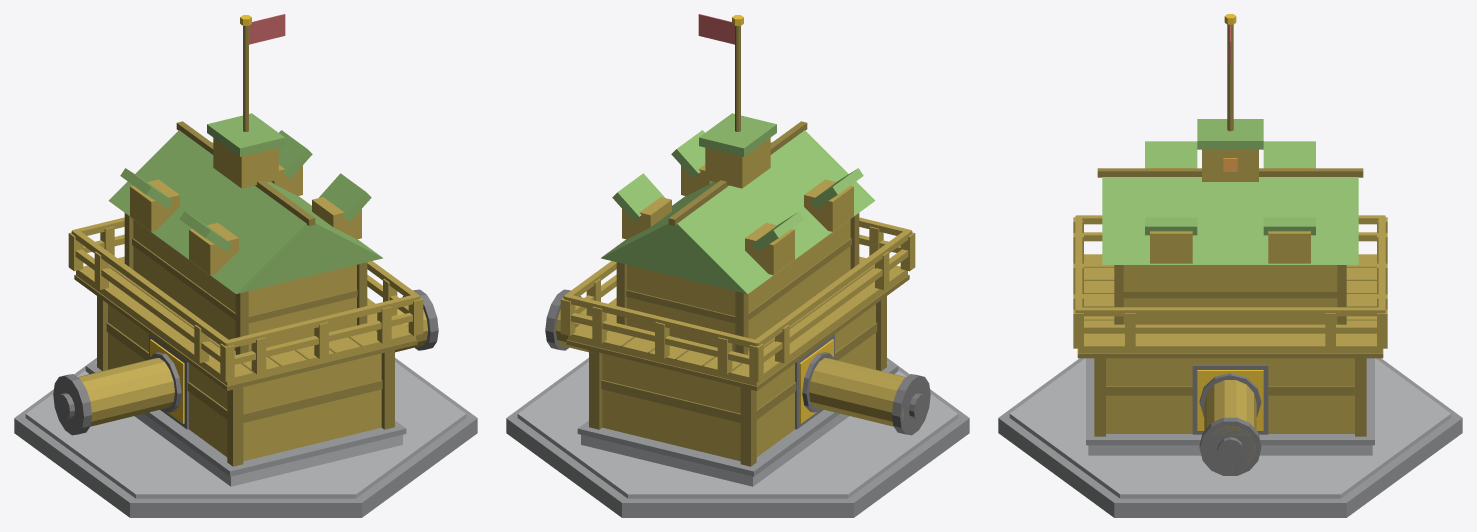
The model's file is storage_s1_100.glb.
3 renders of one model, left to right at view 1: azimuth 30°, elevation 25°; view 2: azimuth 150°, elevation 25°; view 3: azimuth 270°, elevation 25°, orthographic.
Visible parts, largest first — view 1: S_FoundRim, S_Roof, S_GF_Walls, S_Foundation, S_UF_Walls, S_Walkway, S_PipeStubW, S_PlinthCap, S_Plinth, S_GF_Band, S_Erker, S_ErkerRoof (+29 smaller); view 2: S_FoundRim, S_Roof, S_GF_Walls, S_Foundation, S_UF_Walls, S_Walkway, S_PipeStubW, S_PlinthCap, S_Plinth, S_GF_Band, S_Erker, S_ErkerRoof (+29 smaller); view 3: S_FoundRim, S_Roof, S_GF_Walls, S_Foundation, S_UF_Walls, S_Walkway, S_PlinthCap, S_Rail_E_0.75, S_Rail_E_0.67, S_Plinth, S_FlangeE_disc, S_PipeStubE (+21 smaller).
Boxes of the visible parts, x1,y1,x2,y2 form: S_FoundRim: (25, 362, 466, 498); S_Roof: (108, 130, 382, 293); S_GF_Walls: (108, 304, 381, 461); S_Foundation: (14, 358, 477, 517); S_UF_Walls: (133, 219, 356, 351); S_Walkway: (76, 256, 415, 385); S_PipeStubW: (78, 358, 174, 426); S_PlinthCap: (85, 363, 406, 476); S_Plinth: (89, 374, 402, 486); S_GF_Band: (106, 322, 382, 422); S_Erker: (213, 138, 278, 188); S_ErkerRoof: (207, 113, 284, 156); S_FoundRim: (517, 362, 958, 498); S_Roof: (601, 130, 875, 293); S_GF_Walls: (602, 304, 875, 461); S_Foundation: (506, 358, 969, 517); S_UF_Walls: (627, 219, 850, 351); S_Walkway: (568, 256, 907, 385); S_PipeStubW: (809, 358, 907, 426); S_PlinthCap: (577, 363, 898, 476); S_Plinth: (581, 374, 894, 486); S_GF_Band: (601, 322, 877, 422); S_Erker: (705, 138, 770, 188); S_ErkerRoof: (699, 113, 776, 156); S_FoundRim: (1009, 358, 1451, 498); S_Roof: (1102, 177, 1358, 264); S_GF_Walls: (1106, 358, 1354, 433); S_Foundation: (998, 358, 1462, 517); S_UF_Walls: (1123, 265, 1337, 324); S_Walkway: (1078, 254, 1382, 353); S_PlinthCap: (1086, 358, 1374, 445); S_Rail_E_0.75: (1076, 307, 1384, 316); S_Rail_E_0.67: (1084, 324, 1376, 333); S_Plinth: (1088, 445, 1372, 455); S_FlangeE_disc: (1199, 417, 1261, 475); S_PipeStubE: (1204, 380, 1256, 461).
Size of the model in its own units: 1.78 by 1.94 by 1.96.
